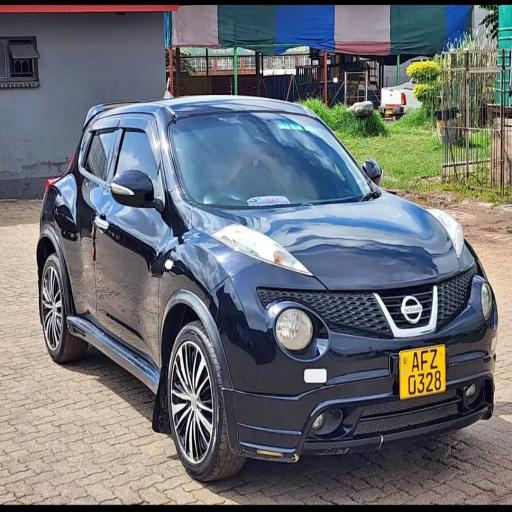number-plates: (399, 347, 446, 394)
